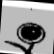not correct: (3, 18, 48, 54)
